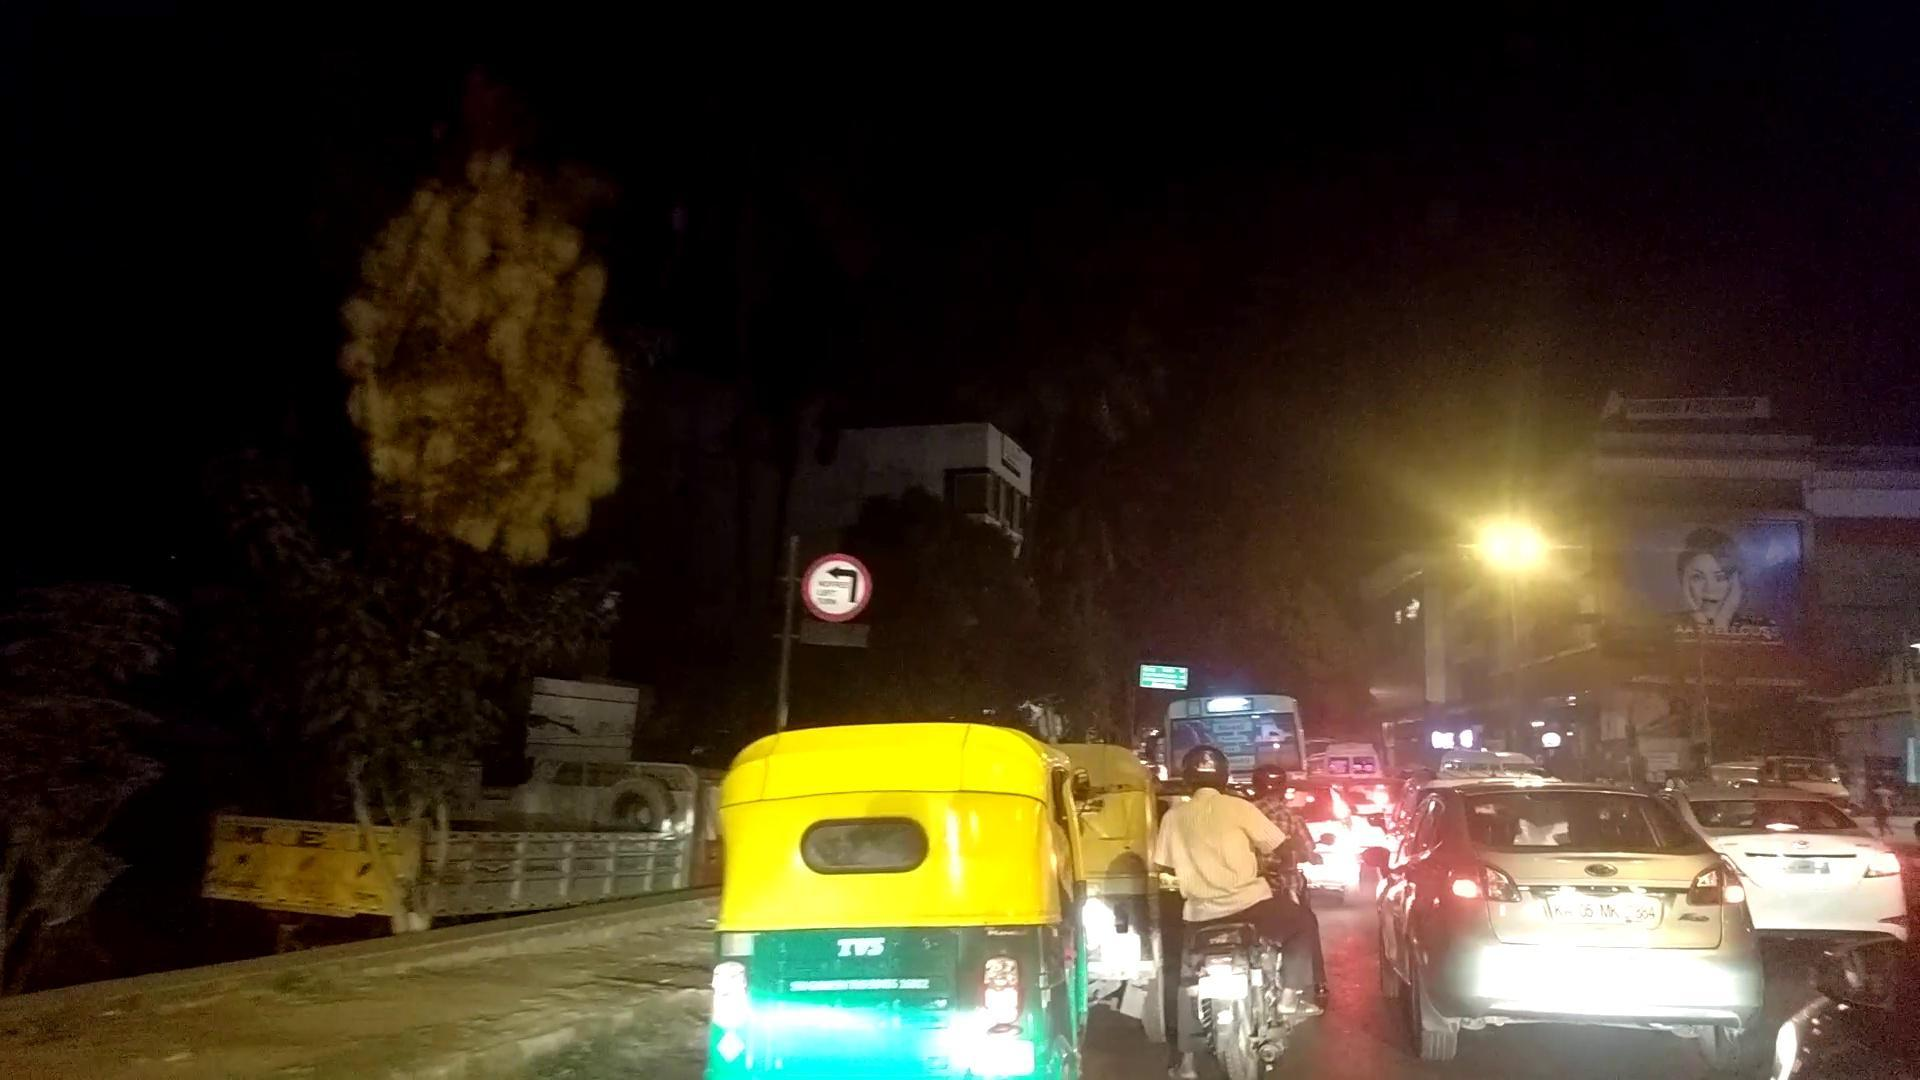off: (1300, 302, 1663, 738)
